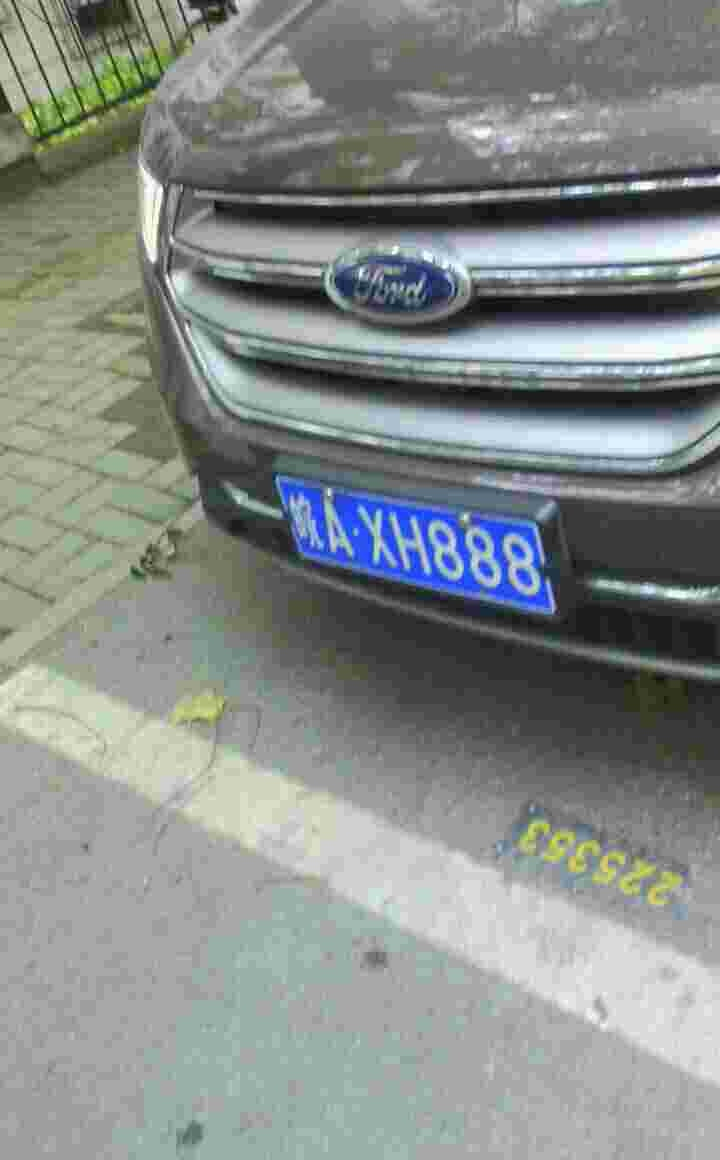license_plate: (290, 486, 537, 609)
